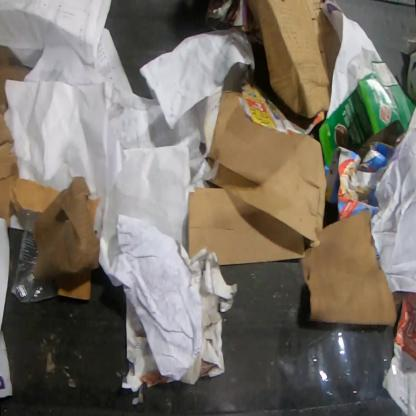cardboard: (206, 90, 328, 249), (240, 0, 341, 121), (0, 45, 62, 229), (318, 61, 415, 170), (187, 186, 306, 265), (324, 141, 398, 221), (58, 271, 92, 302), (87, 196, 101, 229)
rigid_plastic: (9, 206, 58, 304)
soft_plastic: (264, 324, 398, 412)
